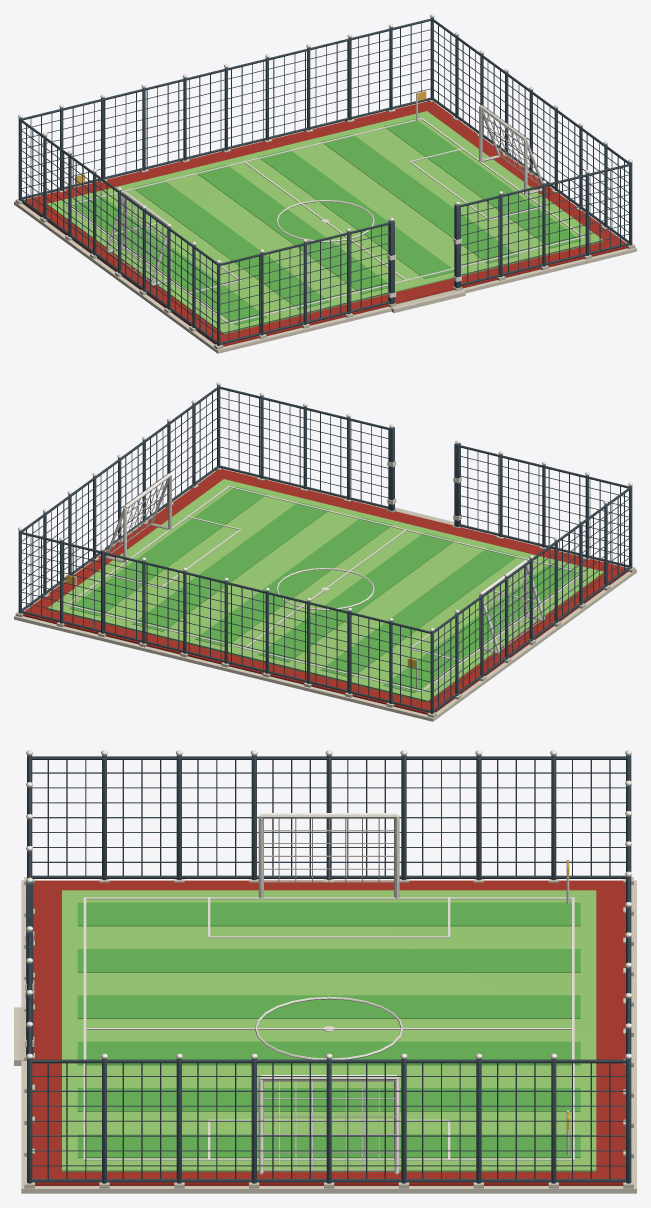
The model's file is football-field.glb.
3 views of the same model, one above another, from view 1: azimuth 30°, elevation 25°; view 2: azimuth 150°, elevation 25°; view 3: azimuth 270°, elevation 25° (orthographic). The views are drawn at different scales.
Visible parts, largest first — view 1: fence post, football turf, mown turf band, track edging, touchline, sports apron; view 2: fence post, football turf, mown turf band, track edging, touchline, sports apron; view 3: football turf, mown turf band, fence post, track edging, touchline, sports apron.
Boxes of the visible parts, x1=… form: fence post: x1=18, y1=17, x2=632, y2=345; football turf: x1=47, y1=111, x2=603, y2=334; mown turf band: x1=71, y1=118, x2=581, y2=324; track edging: x1=22, y1=101, x2=627, y2=346; touchline: x1=18, y1=14, x2=632, y2=324; sports apron: x1=14, y1=100, x2=636, y2=353; fence post: x1=18, y1=385, x2=632, y2=713; football turf: x1=47, y1=479, x2=603, y2=702; mown turf band: x1=69, y1=486, x2=579, y2=692; track edging: x1=23, y1=469, x2=628, y2=714; touchline: x1=18, y1=382, x2=632, y2=692; sports apron: x1=14, y1=468, x2=636, y2=721; football turf: x1=62, y1=890, x2=596, y2=1171; mown turf band: x1=77, y1=902, x2=580, y2=1157; fence post: x1=26, y1=755, x2=631, y2=1183; track edging: x1=32, y1=880, x2=625, y2=1185; touchline: x1=25, y1=750, x2=632, y2=1174; sports apron: x1=14, y1=877, x2=636, y2=1193.
Size of the model in its own units: 7 by 1.45 by 5.97.
